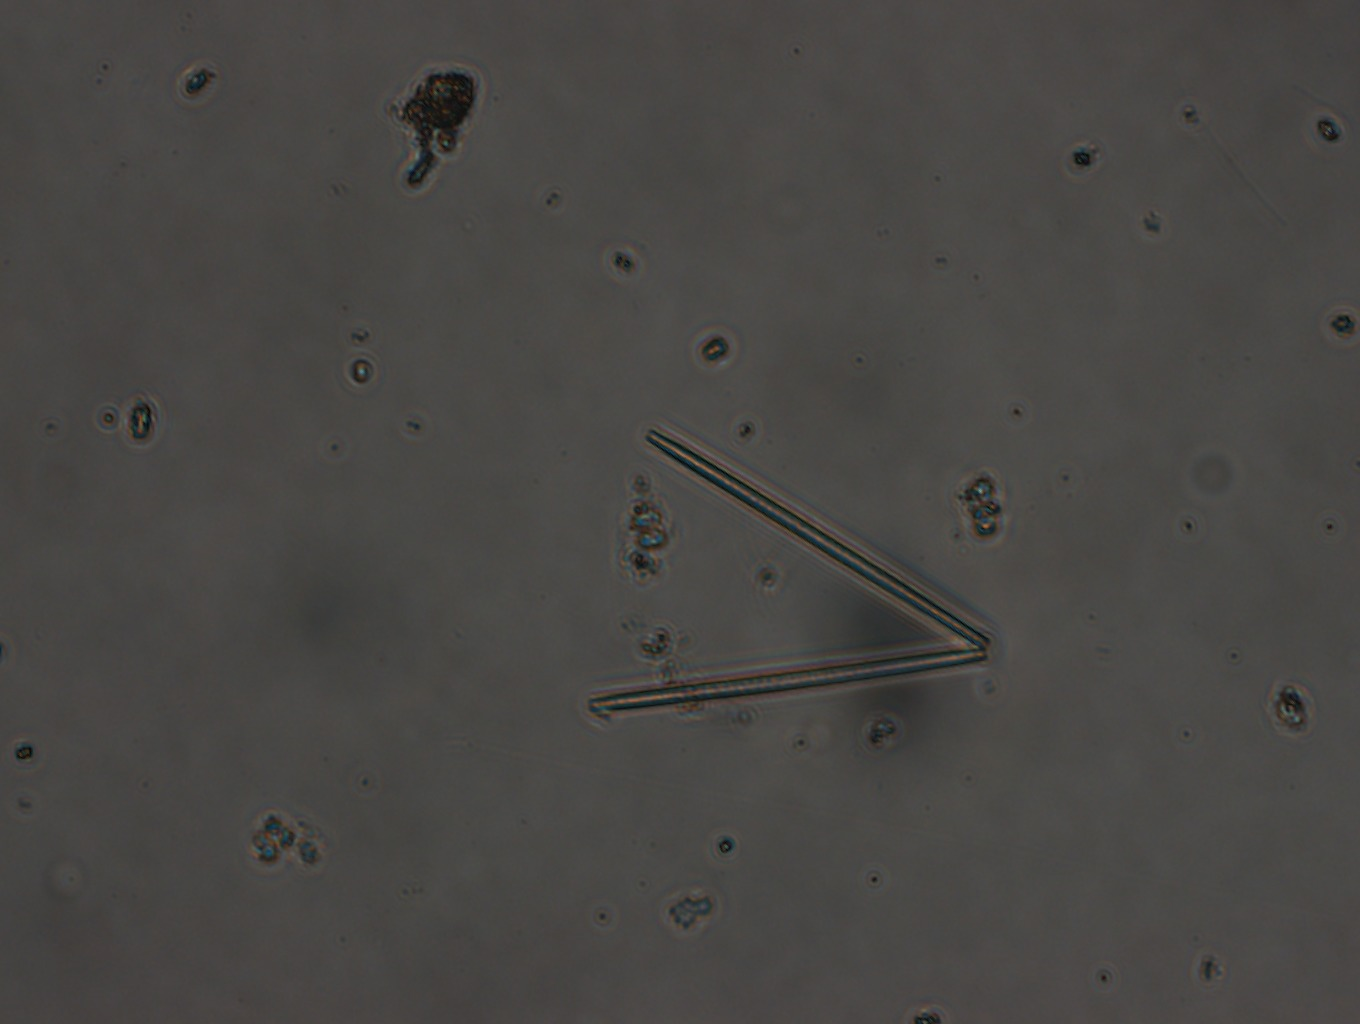thalassionema frauenfeldii: (590, 411, 999, 730)
